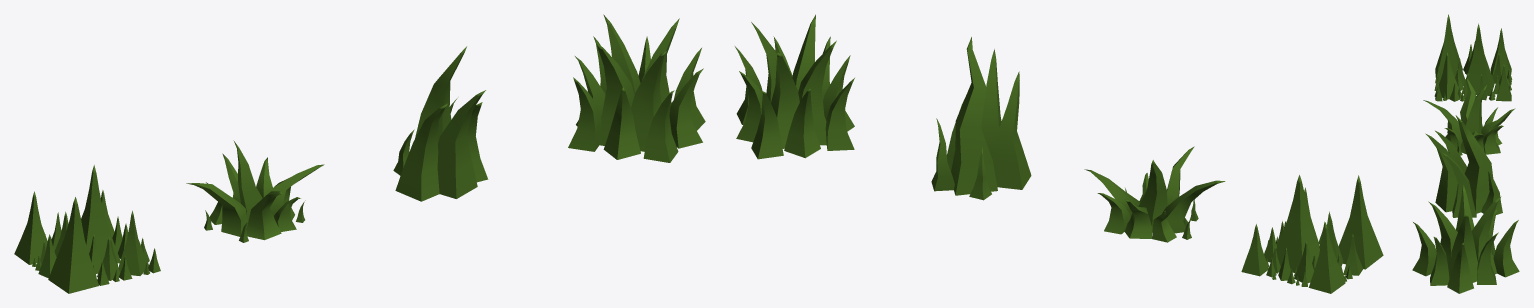
Rendered from qubickgrass.fbx.
The picture shows the model from 3 angles, left to right: view 1: azimuth 30°, elevation 25°; view 2: azimuth 150°, elevation 25°; view 3: azimuth 270°, elevation 25°; orthographic projection. The views are drawn at different scales.
Visible parts, largest first — view 1: grass_01, grass_04, grass_02, grass_03; view 2: grass_01, grass_02, grass_04, grass_03; view 3: grass_01, grass_04, grass_02, grass_03.
Part boxes in pixels (left/top/right/bottom): grass_01: left=568, top=14, right=705, bottom=162; grass_04: left=14, top=165, right=160, bottom=293; grass_02: left=393, top=46, right=488, bottom=201; grass_03: left=186, top=140, right=324, bottom=242; grass_01: left=735, top=14, right=854, bottom=159; grass_02: left=931, top=37, right=1031, bottom=200; grass_04: left=1241, top=175, right=1383, bottom=293; grass_03: left=1084, top=146, right=1225, bottom=242; grass_01: left=1412, top=184, right=1519, bottom=293; grass_04: left=1434, top=14, right=1512, bottom=101; grass_02: left=1425, top=115, right=1502, bottom=217; grass_03: left=1423, top=76, right=1515, bottom=155.
Bounding box in the file's own units: 1359 × 272 × 274.
Materials: 1 (1 with a texture image).
